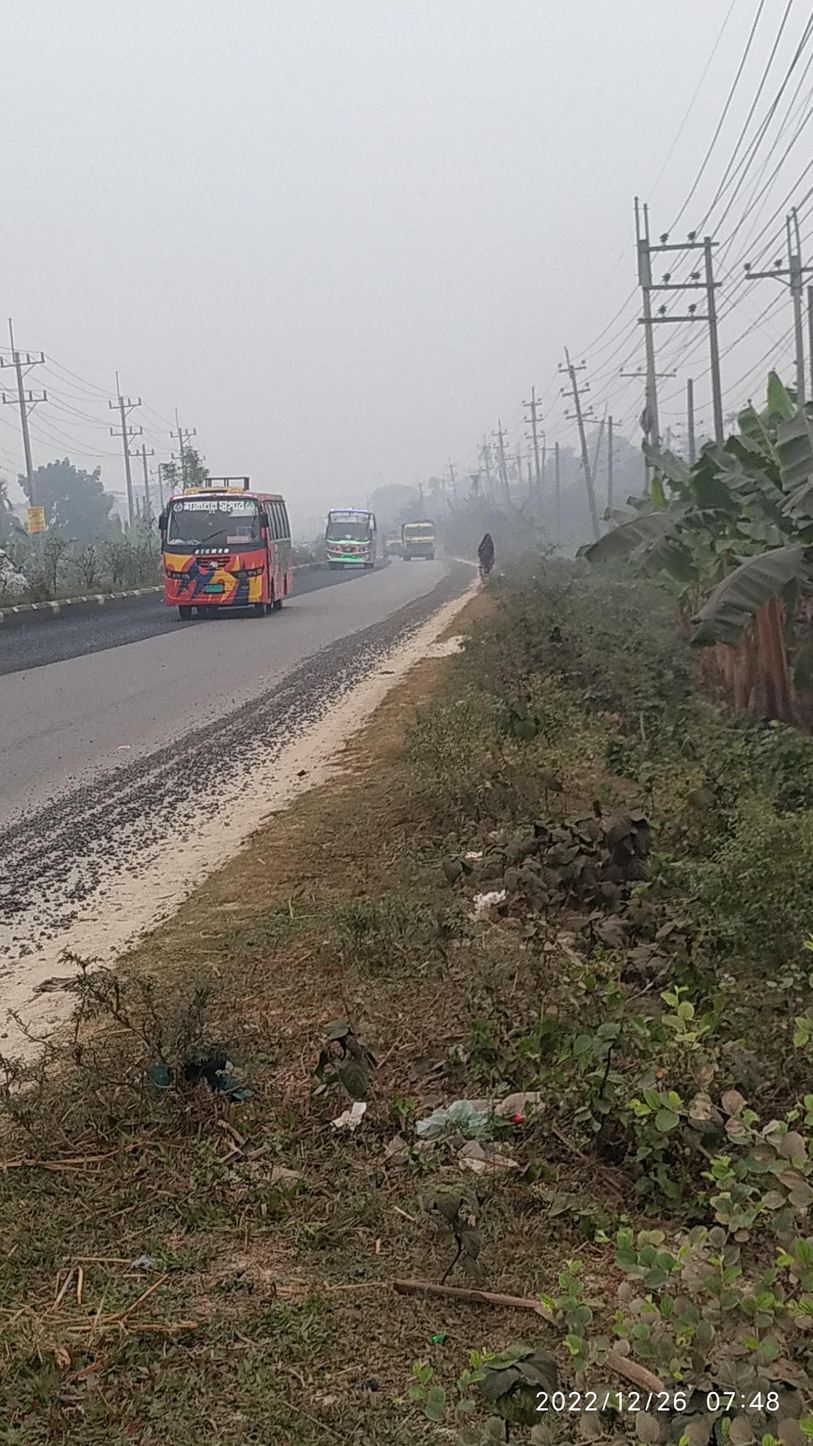Bus: (138, 453, 318, 629), (307, 494, 391, 595)
Truck: (394, 501, 446, 575)
